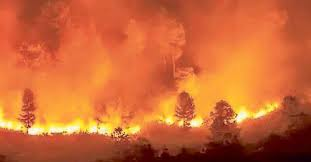fire: (1, 115, 141, 135), (162, 112, 285, 125)
smoke: (24, 6, 299, 82)
